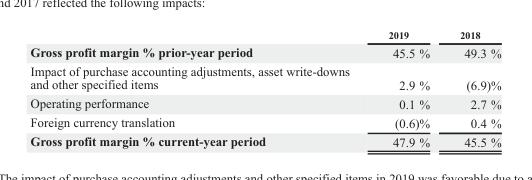table: (29, 29, 500, 149)
table column: (29, 29, 368, 149), (368, 29, 444, 149), (444, 29, 500, 149)
table column header: (29, 29, 500, 42)
table row: (29, 61, 500, 93), (29, 42, 500, 61), (29, 93, 500, 112), (29, 112, 500, 131), (29, 131, 500, 149), (29, 29, 500, 42)
